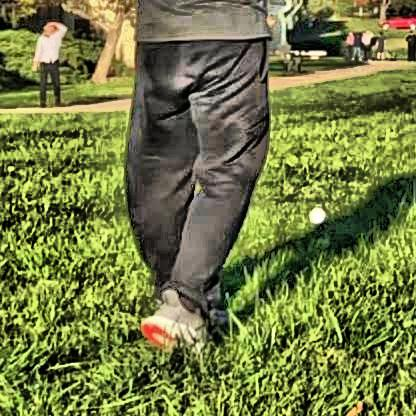golfball: (305, 204, 322, 223)
